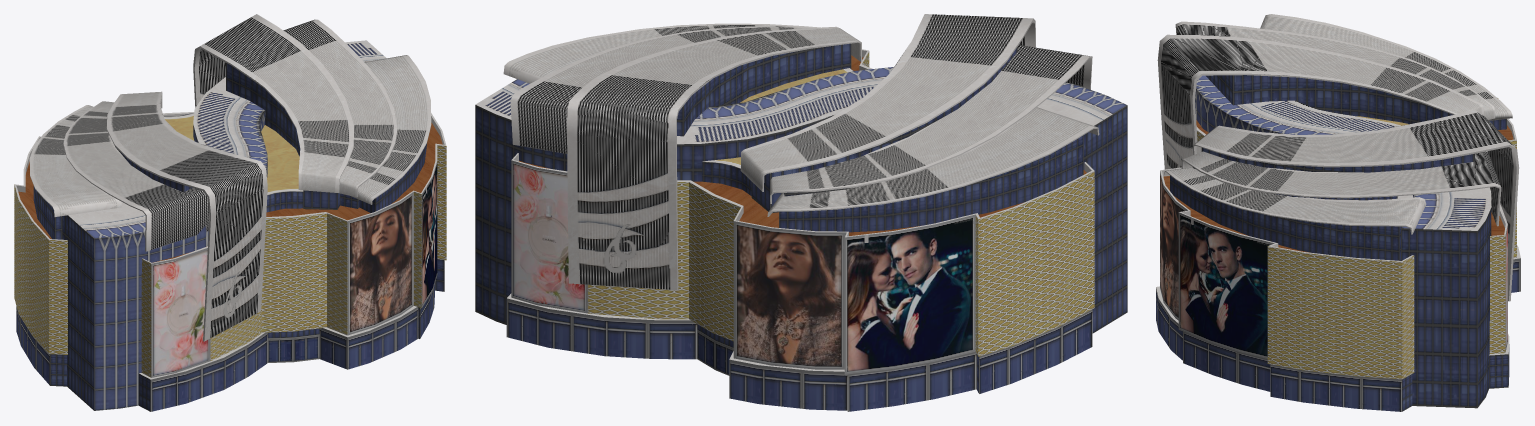
File: store_053.FBX
The picture shows the model from 3 angles, left to right: view 1: azimuth 30°, elevation 25°; view 2: azimuth 150°, elevation 25°; view 3: azimuth 270°, elevation 25°; orthographic projection. The views are drawn at different scales.
Visible parts, largest first — view 1: store_053, store_053_01, store_053_02; view 2: store_053, store_053_02, store_053_01; view 3: store_053, store_053_02, store_053_01.
Part boxes in pixels (box(x1,y1,x2,y2)): store_053: box(14, 14, 446, 411); store_053_01: box(347, 192, 413, 335); store_053_02: box(421, 161, 437, 307); store_053: box(475, 14, 1127, 411); store_053_02: box(844, 214, 975, 374); store_053_01: box(733, 221, 846, 369); store_053: box(1156, 14, 1520, 411); store_053_02: box(1178, 212, 1274, 358); store_053_01: box(1160, 171, 1187, 320).
Size of the model in its own units: 95.08 by 44.84 by 68.65.
